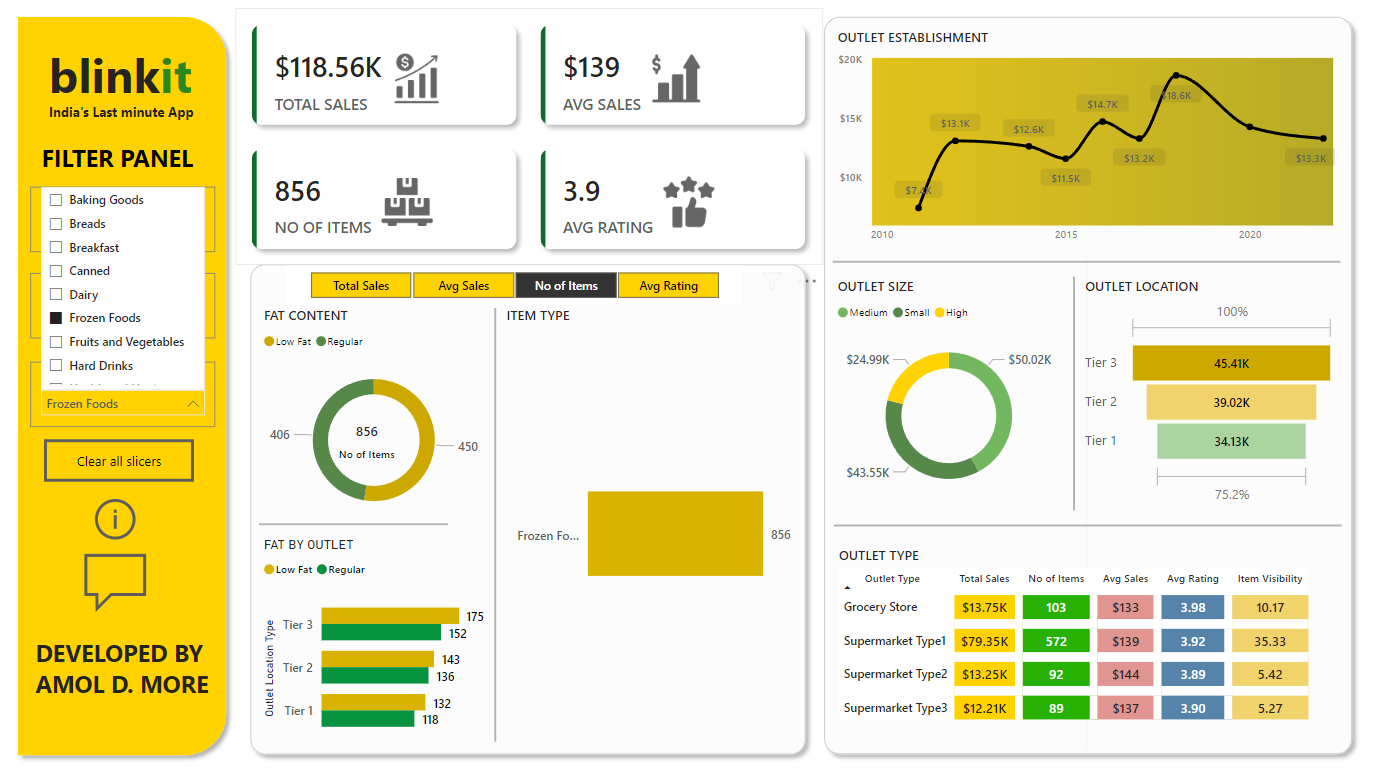

Layout of this report page (visuals, bound fields, positions):
{"tool":"powerbi","page":{"name":"Page 1","canvas":[1400,800],"ordinal":0},"visuals":[{"type":"shape","box":[10.2,15.3,230,768.9],"z":0},{"type":"textbox","box":[46.2,45,181.2,78.8],"z":1000},{"type":"textbox","box":[46.2,106.2,170,31.2],"z":2000},{"type":"cardVisual","fields":{"Data":["BlinkIT Grocery Data.Total Sales","BlinkIT Grocery Data.Avg Sales","BlinkIT Grocery Data.No of Items","BlinkIT Grocery Data.Avg Rating"]},"box":[240,15,597.5,262.5],"z":3000},{"type":"shape","box":[246.2,267.5,582.5,516.2],"z":4000},{"type":"donutChart","title":"FAT CONTENT","fields":{"Y":["BlinkIT Grocery Data.No of Items"],"Category":["BlinkIT Grocery Data.Item Fat Content"]},"box":[264.3,317.7,233.8,228.8],"z":5000},{"type":"slicer","fields":{"Values":["Metrics.Metrics"]},"box":[291.2,277.5,465,40],"z":6000},{"type":"cardVisual","fields":{"Data":["BlinkIT Grocery Data.No of Items"]},"box":[316.2,420,115,67.5],"z":7000},{"type":"clusteredBarChart","title":"FAT BY OUTLET","fields":{"Y":["BlinkIT Grocery Data.No of Items"],"Category":["BlinkIT Grocery Data.Outlet Location Type"],"Series":["BlinkIT Grocery Data.Item Fat Content"]},"box":[264.3,552.8,233.8,217.3],"z":8000},{"type":"shape","box":[264.3,533.8,191.9,12.7],"z":9000},{"type":"shape","box":[1093,266.9,25.4,503.3],"z":10000},{"type":"barChart","title":"ITEM TYPE","fields":{"Y":["BlinkIT Grocery Data.No of Items"],"Category":["BlinkIT Grocery Data.Item Type"]},"box":[510.9,317.7,301.2,443.5],"z":11000},{"type":"shape","box":[829.3,15,554.8,767.8],"z":12000},{"type":"lineChart","title":"OUTLET ESTABLISHMENT","fields":{"Y":["BlinkIT Grocery Data.Total Sales"],"Category":["BlinkIT Grocery Data.Outlet Establishment Year"]},"box":[847.7,35.6,516,227.5],"z":13000},{"type":"shape","box":[849,535,516,12.7],"z":14000},{"type":"donutChart","title":"OUTLET SIZE","fields":{"Y":["BlinkIT Grocery Data.Total Sales"],"Category":["BlinkIT Grocery Data.Outlet Size"]},"box":[847.7,288.5,236.4,237.7],"z":15000},{"type":"shape","box":[498.2,320.3,12.7,441],"z":16000},{"type":"shape","box":[1086.6,288.5,12.7,237.7],"z":17000},{"type":"funnel","title":"OUTLET LOCATION","fields":{"Category":["BlinkIT Grocery Data.Outlet Location Type"],"Y":["Sum(BlinkIT Grocery Data.Sales)"]},"box":[1099.3,288.5,264.3,237.7],"z":18000},{"type":"shape","box":[847.7,266.9,516,12.7],"z":19000},{"type":"pivotTable","title":"OUTLET TYPE","fields":{"Rows":["BlinkIT Grocery Data.Outlet Type"],"Values":["BlinkIT Grocery Data.Total Sales","BlinkIT Grocery Data.No of Items","BlinkIT Grocery Data.Avg Sales","BlinkIT Grocery Data.Avg Rating","Sum(BlinkIT Grocery Data.Item Visibility)"]},"box":[849,561.7,516,199.5],"z":20000},{"type":"slicer","fields":{"Values":["BlinkIT Grocery Data.Outlet Location Type"]},"box":[31.8,197,188.1,66.1],"z":21000},{"type":"slicer","fields":{"Values":["BlinkIT Grocery Data.Outlet Size"]},"box":[31.8,284.7,188.1,66.1],"z":22000},{"type":"slicer","fields":{"Values":["BlinkIT Grocery Data.Item Type"]},"box":[31.8,374.9,188.1,66.1],"z":23000},{"type":"textbox","box":[38.1,146.2,184.3,50.8],"z":24000},{"type":"actionButton","box":[45.8,453.7,152.5,43.2],"z":25000},{"type":"actionButton","box":[80.1,561.7,92.8,76.3],"z":26000},{"type":"actionButton","box":[91.5,508.4,63.5,53.4],"z":27000},{"type":"textbox","box":[31.8,649.4,198.3,86.4],"z":28000}]}

Visuals, with their boxes in screenshot pixels (x1, y1, x2, y2), scaled from the page's 1400x800 canvas onto the 1376x776 screenshot:
shape: [left=10, top=15, right=236, bottom=761]
textbox: [left=45, top=44, right=224, bottom=120]
textbox: [left=45, top=103, right=212, bottom=133]
cardVisual - BlinkIT Grocery Data.Total Sales x BlinkIT Grocery Data.Avg Sales: [left=236, top=15, right=823, bottom=269]
shape: [left=242, top=259, right=814, bottom=760]
"FAT CONTENT" donutChart: [left=260, top=308, right=490, bottom=530]
slicer - Metrics.Metrics: [left=286, top=269, right=743, bottom=308]
cardVisual - BlinkIT Grocery Data.No of Items: [left=311, top=407, right=424, bottom=473]
"FAT BY OUTLET" clusteredBarChart: [left=260, top=536, right=490, bottom=747]
shape: [left=260, top=518, right=448, bottom=530]
shape: [left=1074, top=259, right=1099, bottom=747]
"ITEM TYPE" barChart: [left=502, top=308, right=798, bottom=738]
shape: [left=815, top=15, right=1360, bottom=759]
"OUTLET ESTABLISHMENT" lineChart: [left=833, top=35, right=1340, bottom=255]
shape: [left=834, top=519, right=1342, bottom=531]
"OUTLET SIZE" donutChart: [left=833, top=280, right=1066, bottom=510]
shape: [left=490, top=311, right=502, bottom=738]
shape: [left=1068, top=280, right=1080, bottom=510]
"OUTLET LOCATION" funnel: [left=1080, top=280, right=1340, bottom=510]
shape: [left=833, top=259, right=1340, bottom=271]
"OUTLET TYPE" pivotTable: [left=834, top=545, right=1342, bottom=738]
slicer - BlinkIT Grocery Data.Outlet Location Type: [left=31, top=191, right=216, bottom=255]
slicer - BlinkIT Grocery Data.Outlet Size: [left=31, top=276, right=216, bottom=340]
slicer - BlinkIT Grocery Data.Item Type: [left=31, top=364, right=216, bottom=428]
textbox: [left=37, top=142, right=219, bottom=191]
actionButton: [left=45, top=440, right=195, bottom=482]
actionButton: [left=79, top=545, right=170, bottom=619]
actionButton: [left=90, top=493, right=152, bottom=545]
textbox: [left=31, top=630, right=226, bottom=714]
